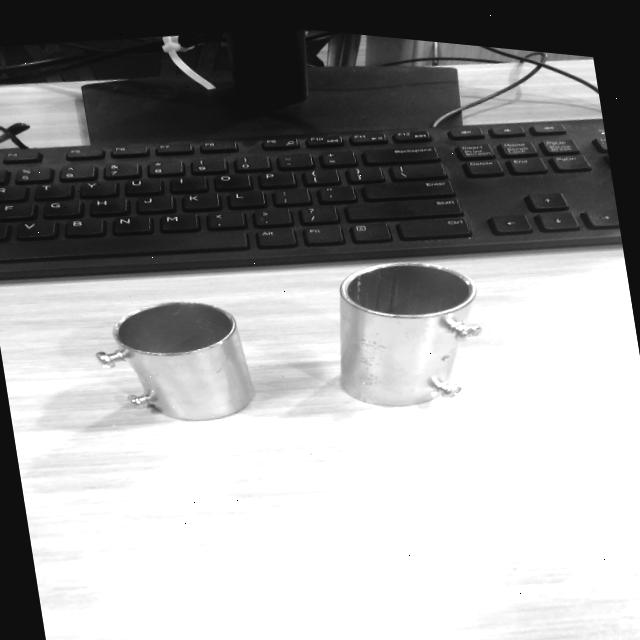Co_Lon: (339, 262, 482, 407)
Co_Nho: (84, 287, 259, 442)
